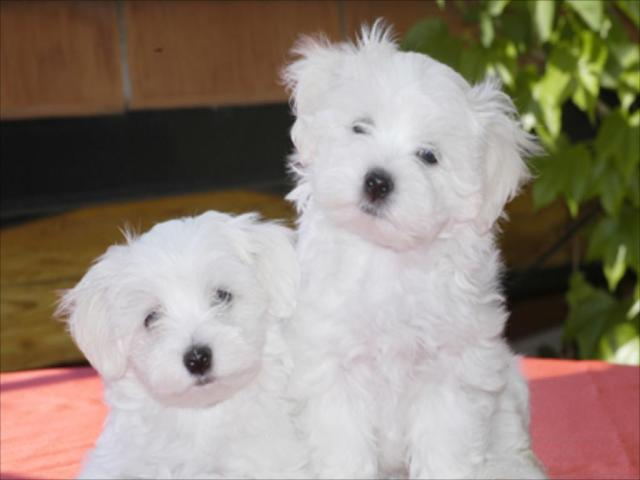Dog: (279, 15, 553, 478), (47, 207, 317, 478)
